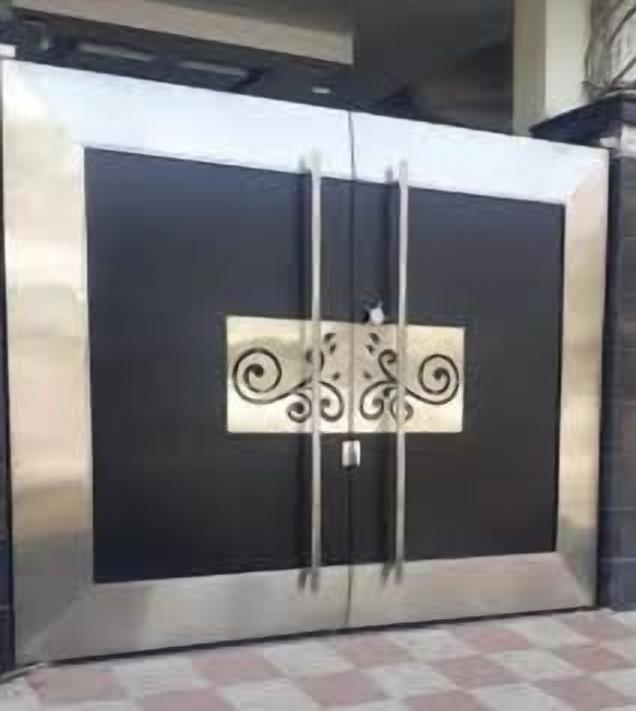Gate: (0, 57, 613, 671)
